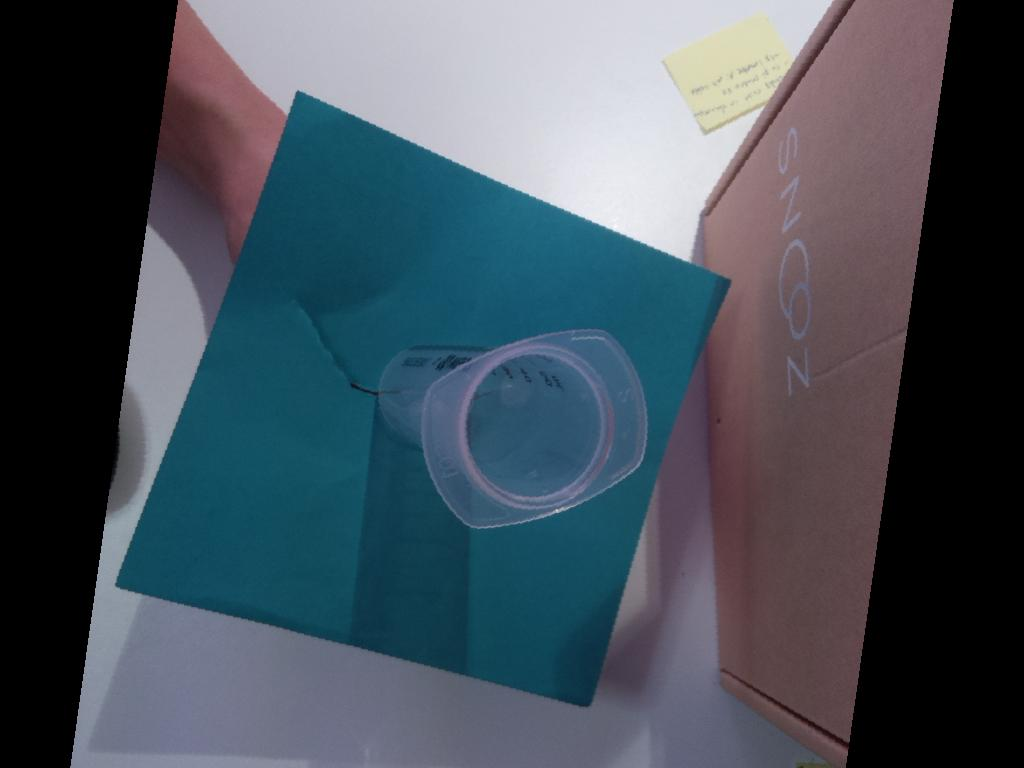clean: (423, 327, 650, 532)
